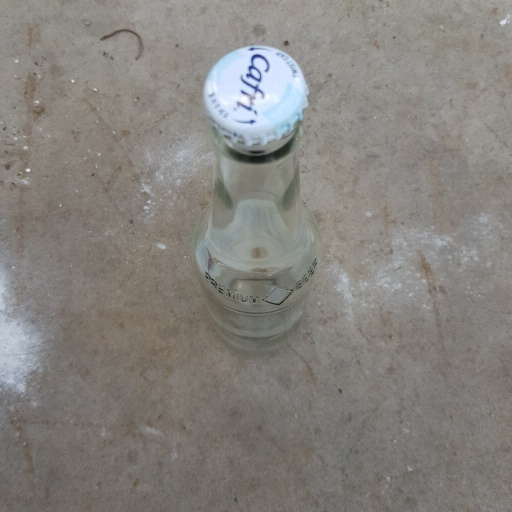Glass_1: (188, 39, 326, 359)
